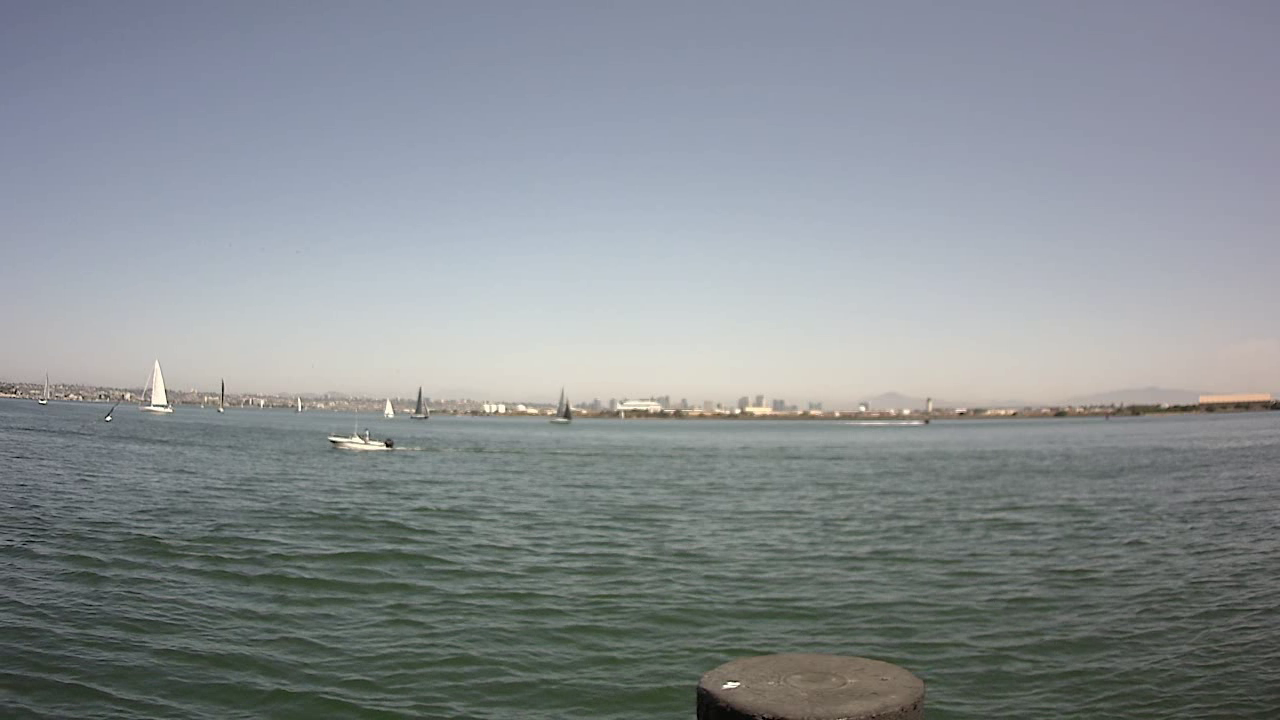target: (324, 422, 403, 457)
